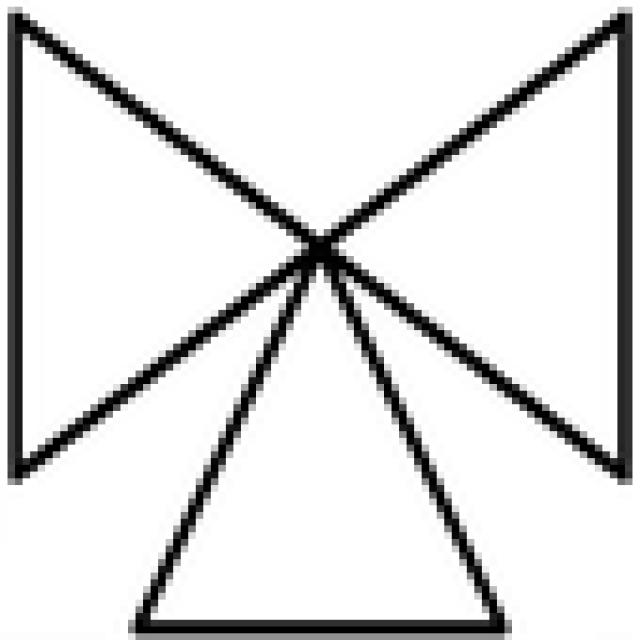3-way Valve: (137, 15, 624, 624), (16, 18, 315, 473)
